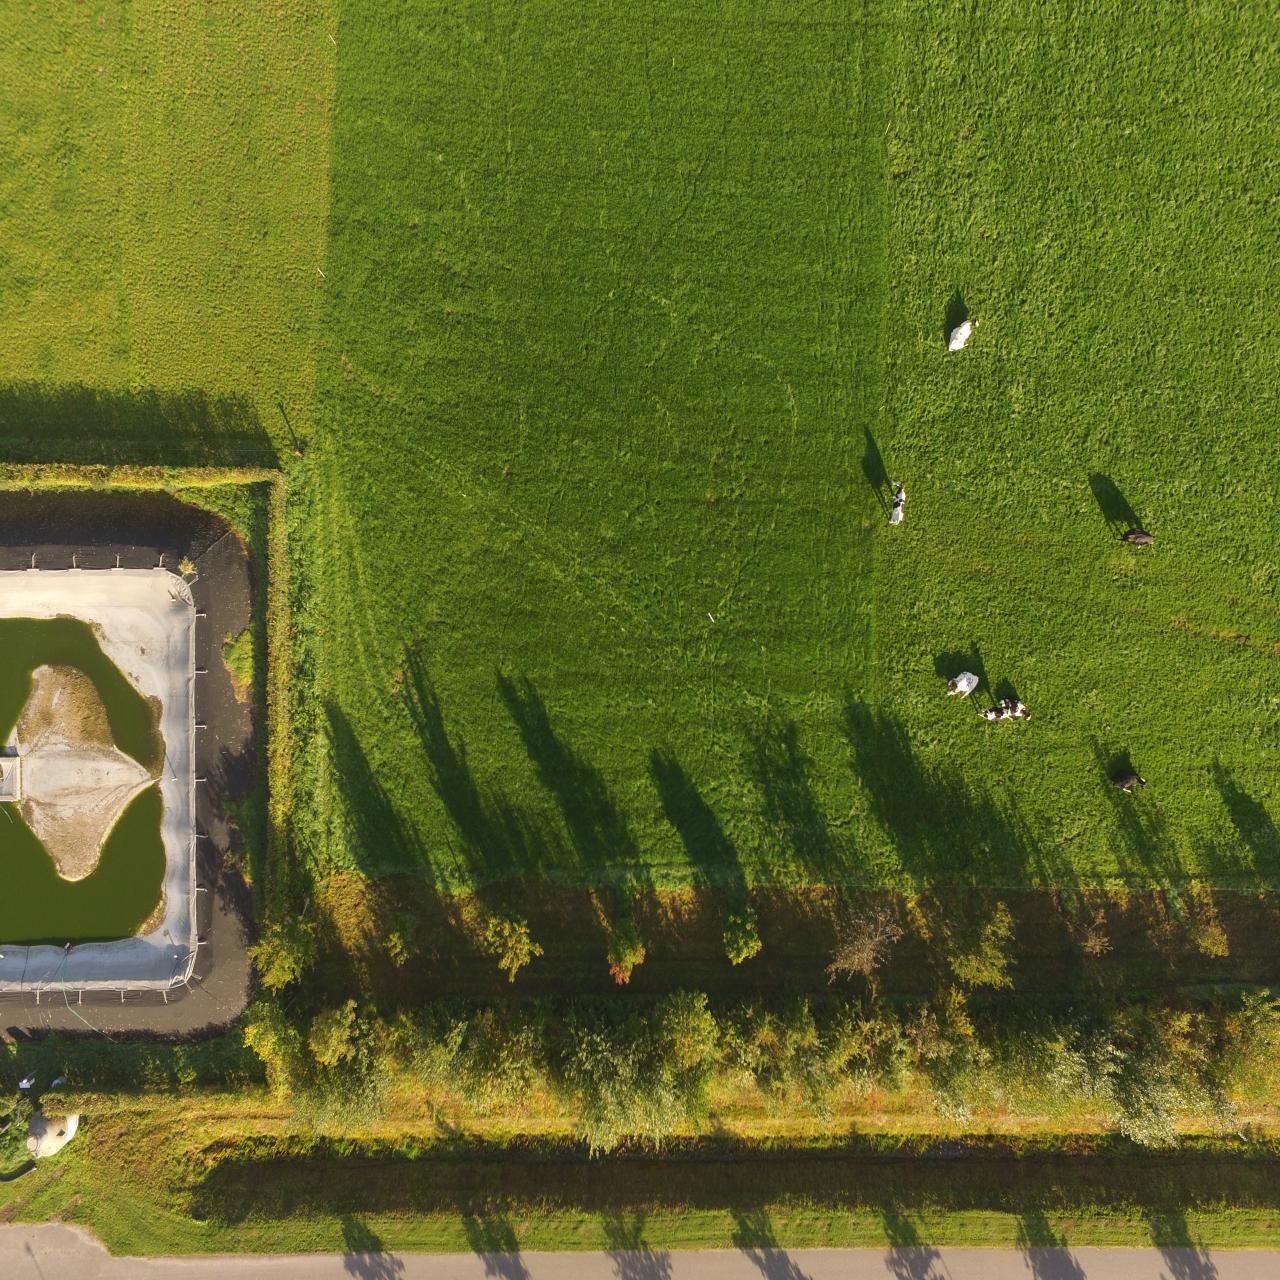cow: (880, 475, 913, 539), (1102, 757, 1144, 802), (1116, 519, 1159, 559), (945, 662, 981, 704), (945, 314, 974, 355), (976, 701, 1013, 730), (1002, 690, 1030, 726)
